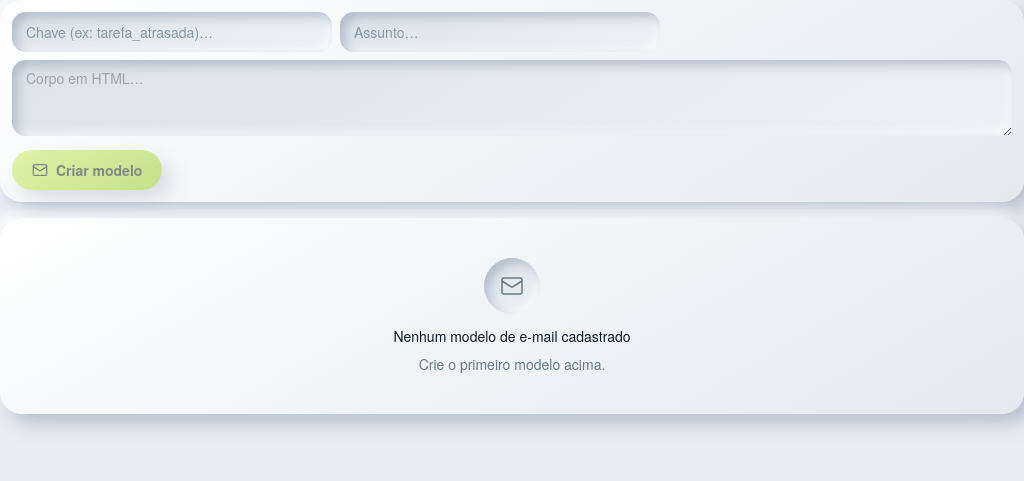
EmailTemplatesPanel › creates a new template from the quick-create form
Expected: the text "Nenhum modelo de e-mail cadastrado" is shown, [393,326,631,346]
Type "novo_modelo" into the field with placeholder "Chave (ex: tarefa_atrasada)…" at point(172, 32), box [12,12,332,52]
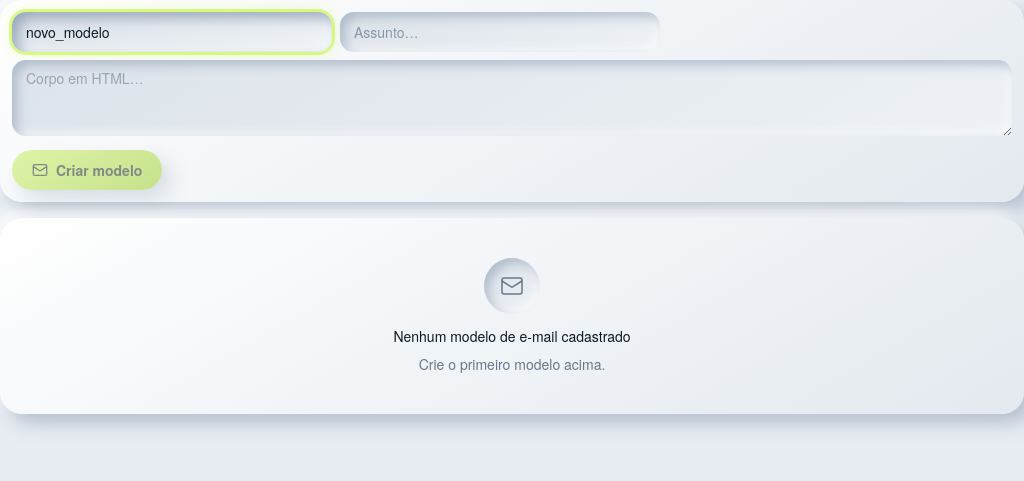
Type "Assunto do e-mail" into the field with placeholder "Assunto…" at point(500, 32), box [340,12,660,52]
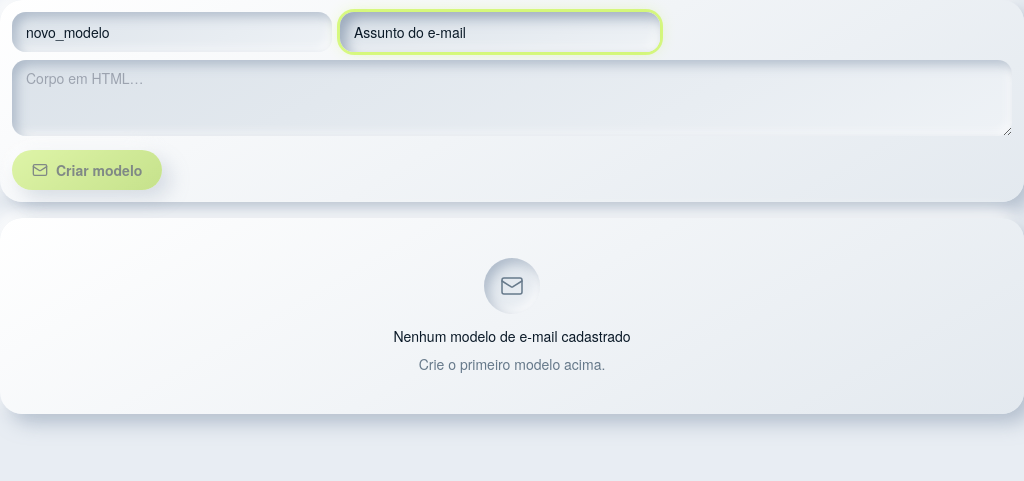
Type "<p>Olá</p>" into the text box with placeholder "Corpo em HTML…" at point(512, 98), box [12,60,1012,136]
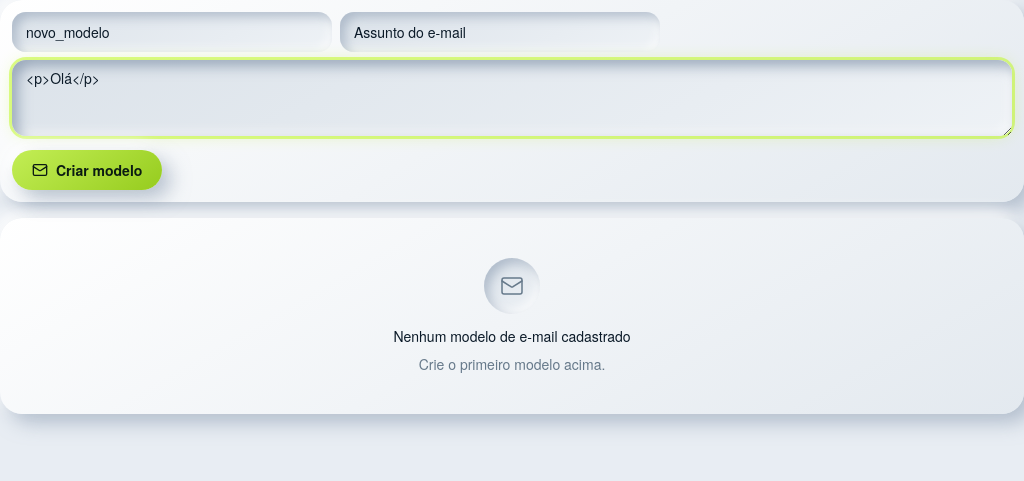
Click the button "Criar modelo" at point(87, 170), box [12,150,162,190]
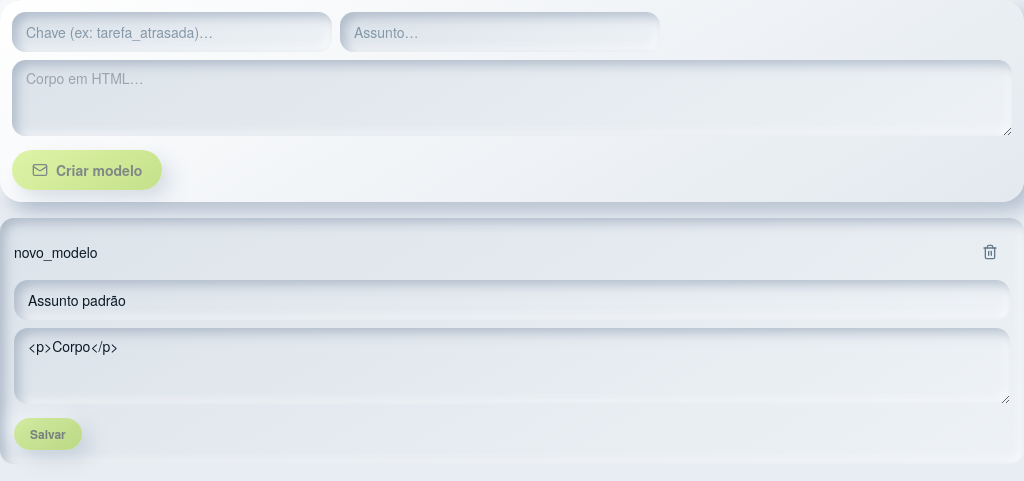
Now the text "novo_modelo" is shown, box [14,242,98,262]
